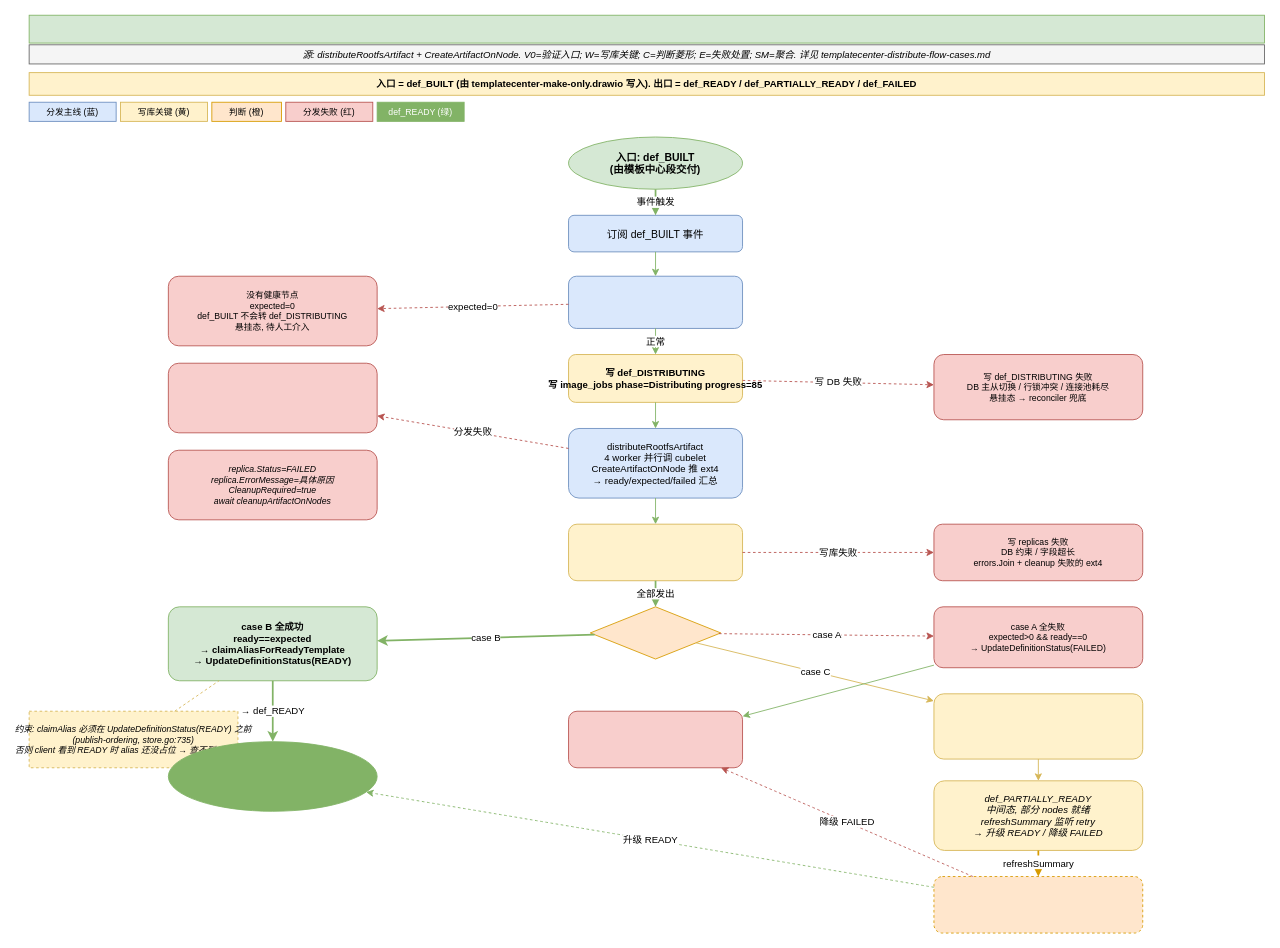
Image size: 1280x948. Some labels were removed from this diagram. Each missing label, with the centre of its shape:
"case C 部分成功 ready>0 && failed>0 → UpdateDefinitionStatus(PARTIALLY_READY)" belongs at (x=1038, y=726).
"CubeMaster 下发段 — 从 def_BUILT 到 def_READY (与模板中心段衔接)" belongs at (x=646, y=28).
"def_FAILED 终态 image_jobs.status=Failed phase=Distributing" belongs at (x=655, y=739).
"def_READY 终态 replicas 全 Status=READY alias 已占位可被解析" belongs at (x=272, y=776).
"PARTIALLY 重算 refreshTemplateReplicaSummary 任一 replica 终态到达触发" belongs at (x=1038, y=904).
"summarize 聚合?" belongs at (x=655, y=632).
"写 template_replicas 每节点一行 + localcache + Redis UpsertReplica 调用" belongs at (x=655, y=552).
"分发失败原因 OOM / cgroup 限额 / ENOSPC / cbs 配额满 retCode != 0" belongs at (x=272, y=397).
"解析分发节点 按 instance_type 拿健康节点" belongs at (x=655, y=301).
